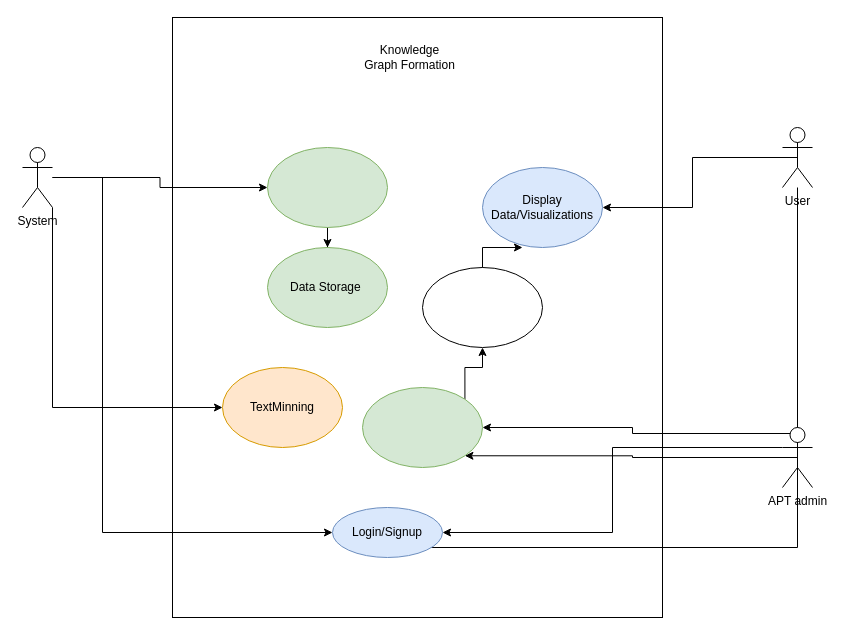
The diagram is 844 pixels wide and 635 high, and some of its shapes have lost their labels. Each missing label, with the box of its shape:
Data Crawling: (266, 146, 388, 228)
Data Visualizer: (422, 266, 542, 348)
Extract DB Data: (362, 386, 482, 468)
